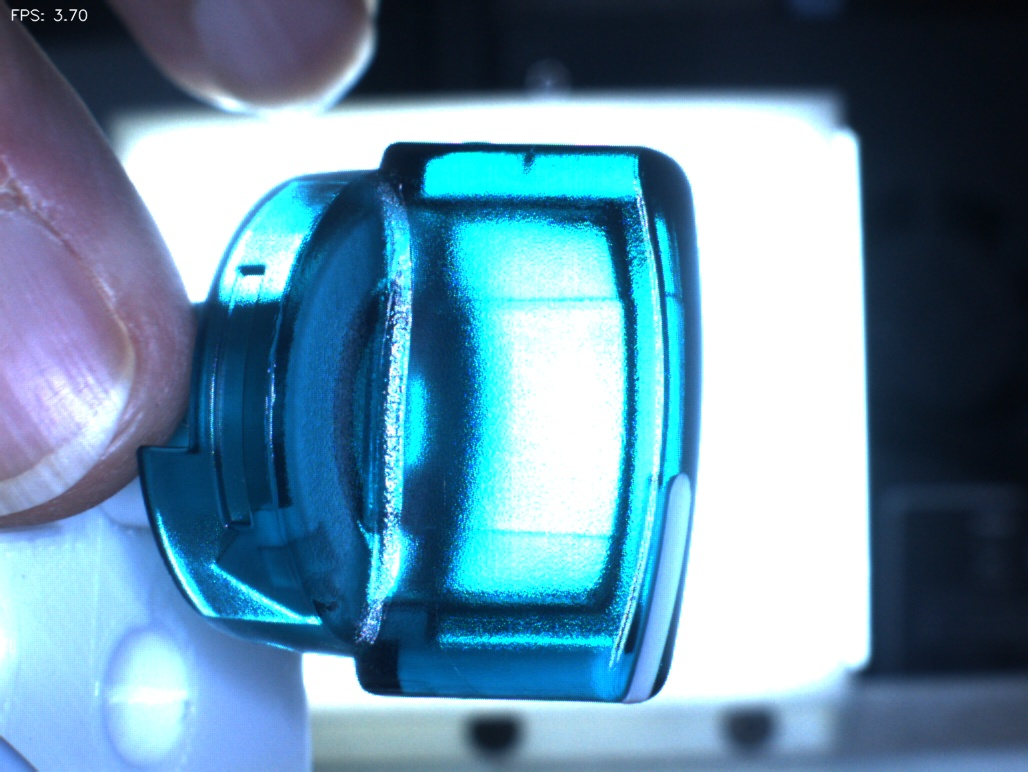Bulle: (473, 106, 582, 202)
